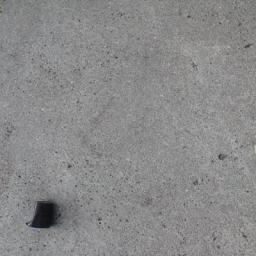FOD: (25, 199, 60, 232)
